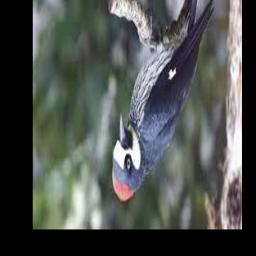Woodpecker: (113, 0, 215, 205)
